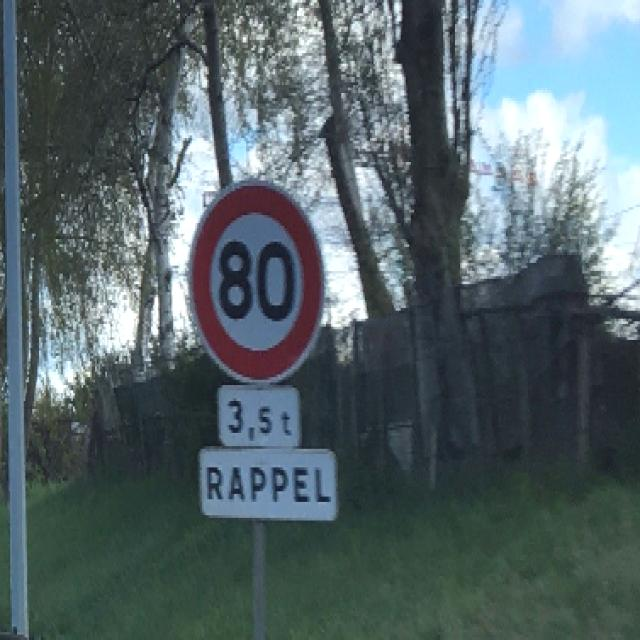speed_80: (186, 173, 327, 385)
